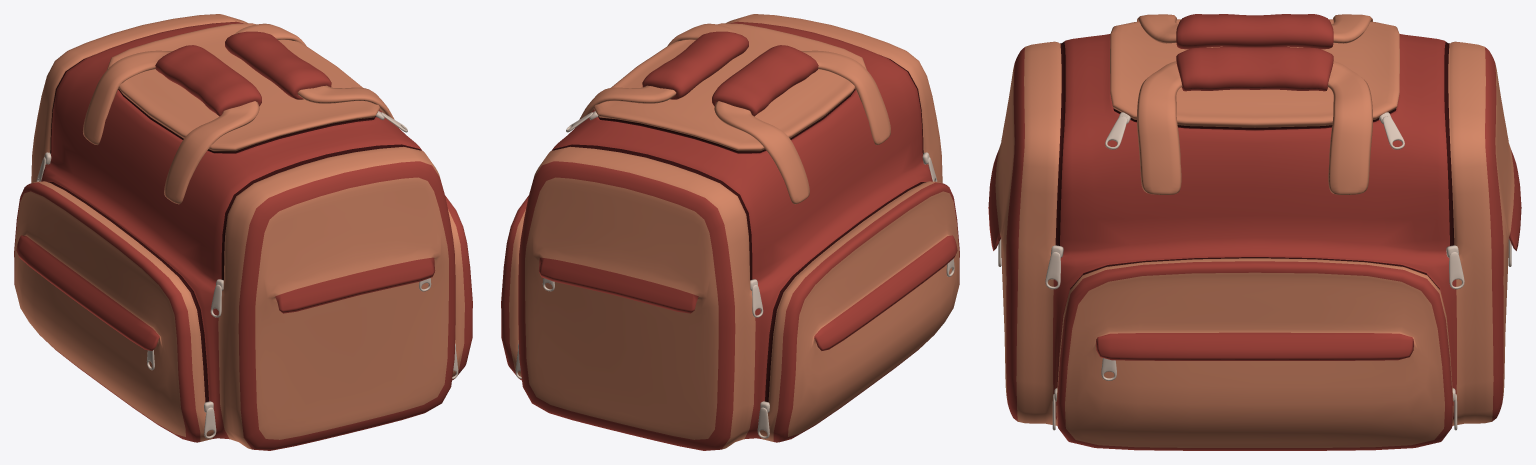
Rendered from 17_8_Model_AIRPORT_0.obj.
3 renders of one model, left to right at view 1: azimuth 30°, elevation 25°; view 2: azimuth 150°, elevation 25°; view 3: azimuth 270°, elevation 25°, orthographic. The views are drawn at different scales.
Parts seen in each view (by area): view 1: 17.8.Model_AIRPORT_0; view 2: 17.8.Model_AIRPORT_0; view 3: 17.8.Model_AIRPORT_0.
Boxes of the visible parts, x1=… form: 17.8.Model_AIRPORT_0: x1=14, y1=14, x2=472, y2=450; 17.8.Model_AIRPORT_0: x1=501, y1=14, x2=959, y2=450; 17.8.Model_AIRPORT_0: x1=988, y1=14, x2=1521, y2=450.
Size of the model in its own units: 0.5183 by 0.4474 by 0.6301.
1 material, 1 textured.
